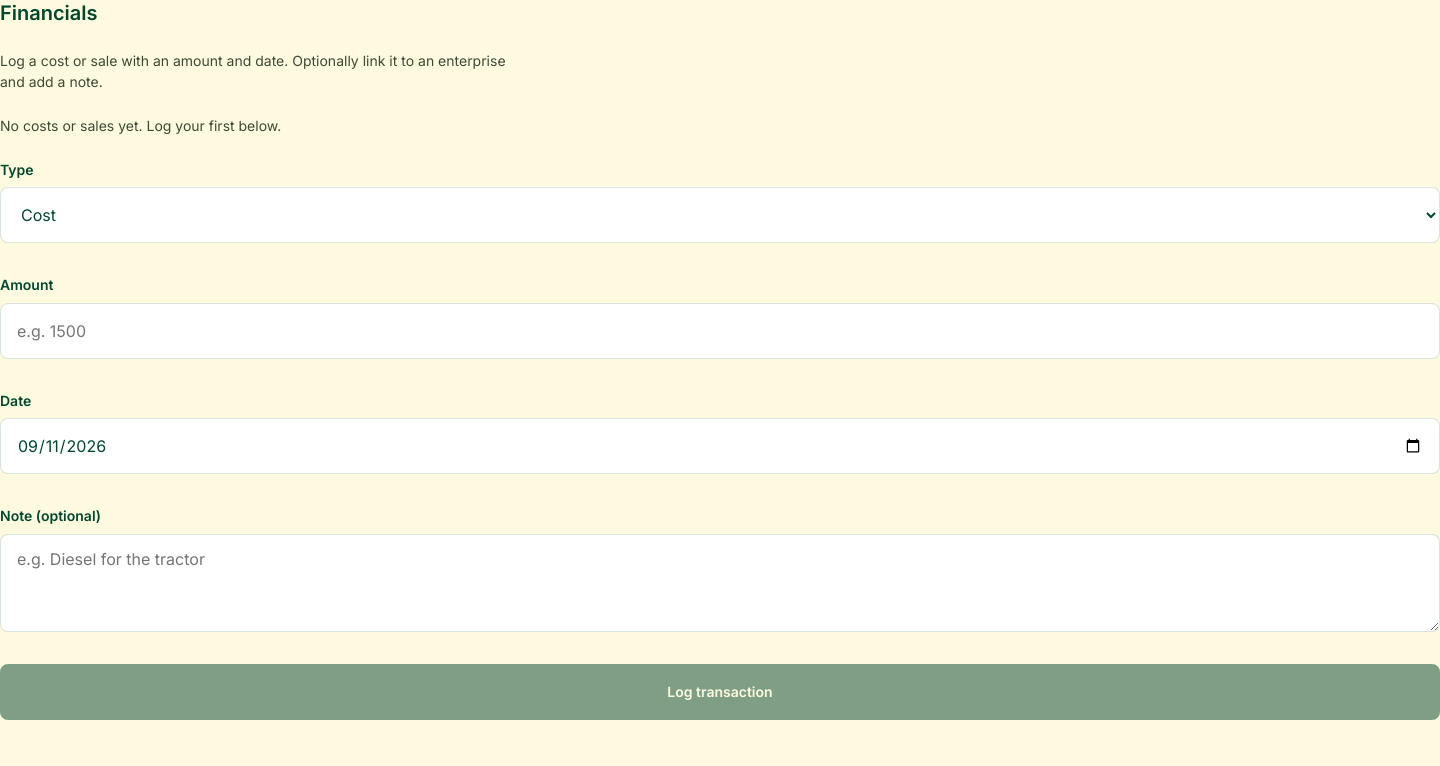
Test: FinancialsScreen › logs a cost and lists it, then clears the form
Type "1500" into the number field with test id "transaction-amount-input" at (720, 331), box [0,303,1439,359]
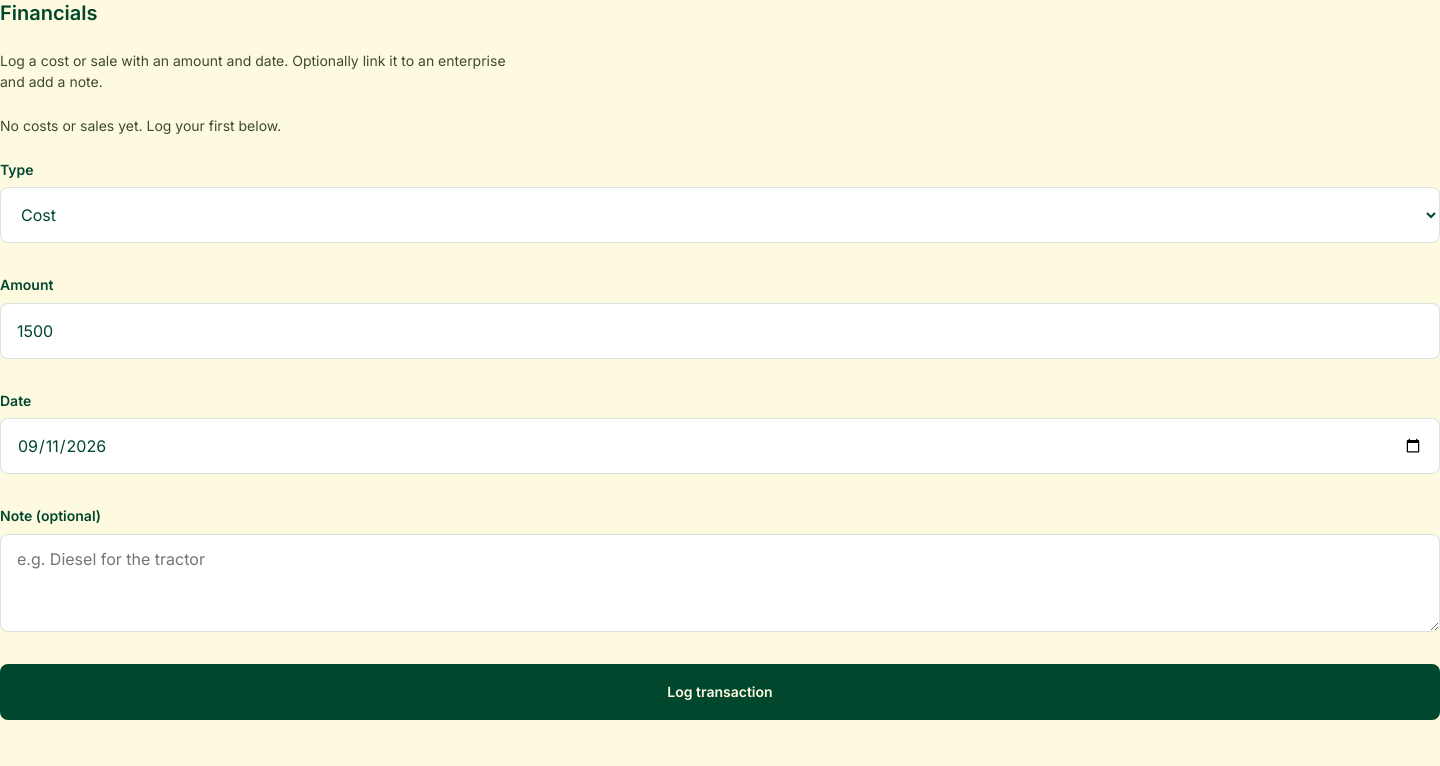
Click the button "Log transaction" at (720, 692), box [0,664,1439,720]
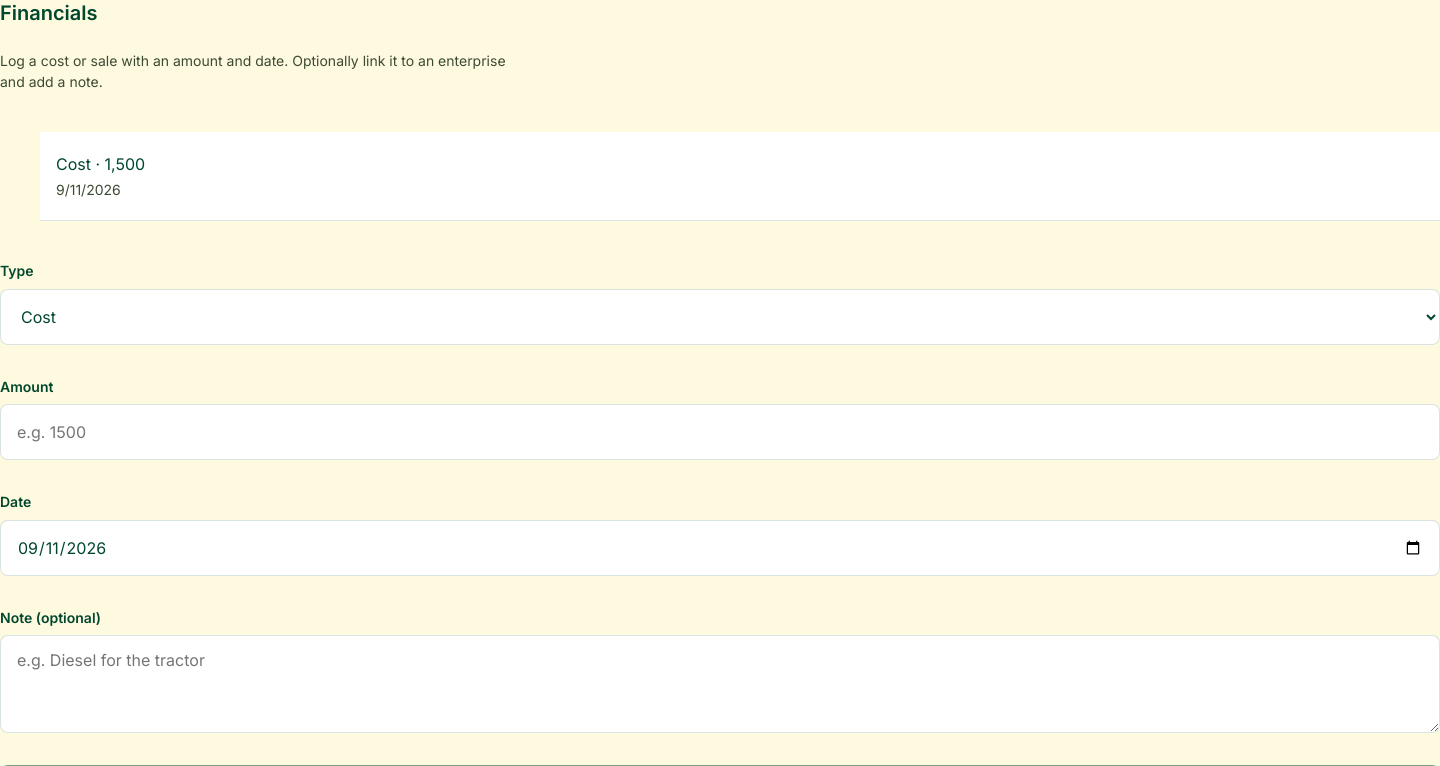
Expected: the list named "Transactions" shows "Cost", [56,154,91,174]
Expected: the list named "Transactions" shows "1,500", [105,154,145,174]
Expected: the number field with test id "transaction-amount-input" is not empty, [0,404,1439,460]
